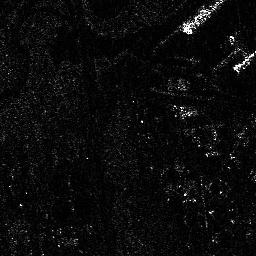ship: (182, 1, 225, 34), (233, 50, 256, 71)
